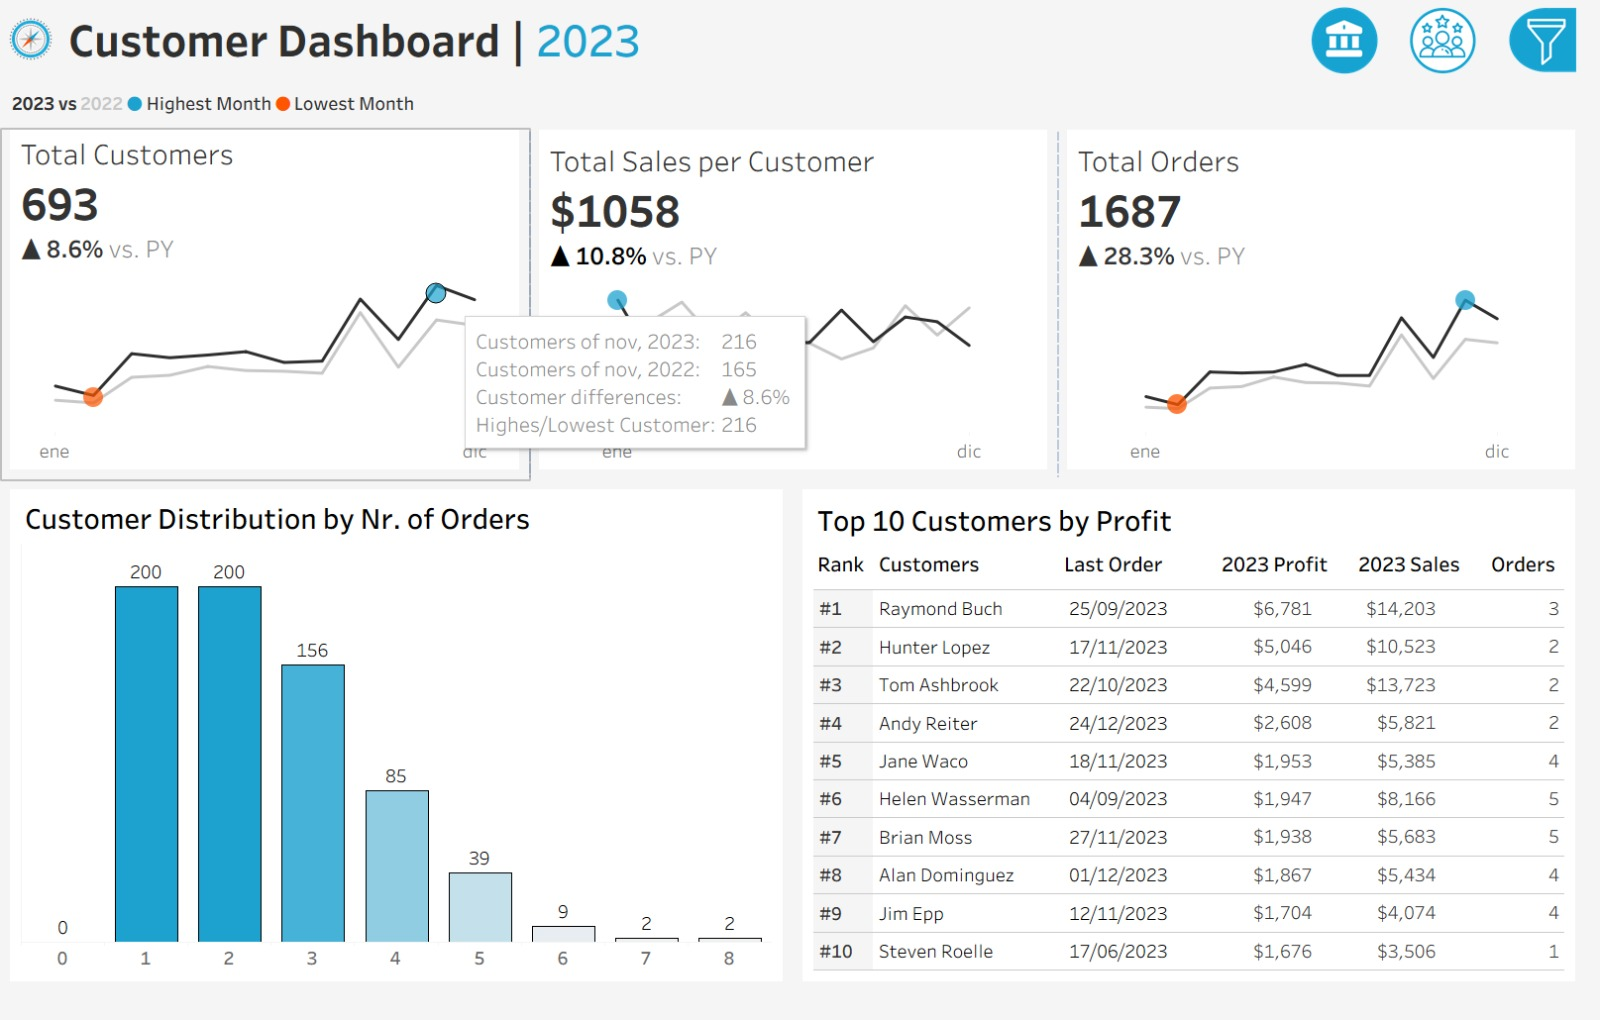

This screenshot's page, from the dashboard's own definition file:
{"tool":"tableau","page":{"name":"Customer Dashboard","canvas":[1600,1000],"ordinal":0},"visuals":[{"type":"image","param":"C:/Users/thean/Documents/Tableau/Curso Udemy/sales-dashboard-project (1)/sales-d","box":[0,0,61,76]},{"type":"text","box":[61,0,1202,76]},{"type":"dashboard-object","box":[1306,1,100,77]},{"type":"dashboard-object","box":[1406,1,100,77]},{"type":"dashboard-object","box":[1506,1,100,77]},{"type":"blank","box":[1244.7,10,342.7,90]},{"type":"worksheet","title":"Legends KPI","mark":"Automatic","box":[0,76,1600,54]},{"type":"text","box":[1244.7,100,342.7,47]},{"type":"worksheet","title":"KPI Customers","mark":"Automatic","rows":["Min/Max Sales (copia)_1171261644341273"],"cols":["Order Date"],"box":[0,130,534,353]},{"type":"worksheet","title":"KPI Sales per cust.","mark":"Automatic","rows":["Calculation_1171261718073372"],"cols":["Order Date"],"box":[534,130,533,353]},{"type":"worksheet","title":"KPI Orders","mark":"Automatic","rows":["Calculation_1171261723463713"],"cols":["Order Date"],"box":[1067,130,533,353]},{"type":"parameter","param":"[Parameters].[Parámetro 1]","box":[1244.7,147,342.7,60]},{"type":"text","box":[1244.7,207,342.7,42]},{"type":"filter","title":"KPI Customers","param":"[federated.1usaflp05rs750141jv3z0yhu4k8].[none:Category:nk]","box":[1244.7,249,342.7,70]},{"type":"filter","title":"KPI Customers","param":"[federated.1usaflp05rs750141jv3z0yhu4k8].[none:Sub-Category:nk]","box":[1244.7,319,342.7,70]},{"type":"text","box":[1244.7,389,342.7,42]},{"type":"filter","title":"KPI Customers","param":"[federated.1usaflp05rs750141jv3z0yhu4k8].[none:Region:nk]","box":[1244.7,431,342.7,70]},{"type":"text","box":[17,500,766,44]},{"type":"text","box":[817,500,766,47]},{"type":"filter","title":"KPI Customers","param":"[federated.1usaflp05rs750141jv3z0yhu4k8].[none:State:nk]","box":[1244.7,501,342.7,70]},{"type":"worksheet","title":"Customer Distribution","mark":"Bar","rows":["Calculation_1171261634609168"],"cols":["Calculation_1171261729288230"],"box":[17,544,766,439]},{"type":"text","box":[817,547,62,43]},{"type":"text","box":[879,547,187,43]},{"type":"text","box":[1066,547,159,43]},{"type":"text","box":[1225,547,138,43]},{"type":"text","box":[1363,547,134,43]},{"type":"text","box":[1497,547,86,43]},{"type":"filter","title":"KPI Customers","param":"[federated.1usaflp05rs750141jv3z0yhu4k8].[none:City:nk]","box":[1244.7,571,342.7,70]},{"type":"worksheet","title":"Top Customers","mark":"Automatic","rows":["Calculation_1171261734461482","Customer Name","Order Date"],"box":[817,590,766,393]}]}

Visuals, with their boxes in screenshot pixels (x1, y1, x2, y2), scaled from the page's 1600x1000 canvas onto the 1600x1020 screenshot:
image: {"x1": 0, "y1": 0, "x2": 61, "y2": 78}
text: {"x1": 61, "y1": 0, "x2": 1263, "y2": 78}
dashboard-object: {"x1": 1306, "y1": 1, "x2": 1406, "y2": 80}
dashboard-object: {"x1": 1406, "y1": 1, "x2": 1506, "y2": 80}
dashboard-object: {"x1": 1506, "y1": 1, "x2": 1599, "y2": 80}
blank: {"x1": 1245, "y1": 10, "x2": 1587, "y2": 102}
"Legends KPI" worksheet: {"x1": 0, "y1": 78, "x2": 1599, "y2": 133}
text: {"x1": 1245, "y1": 102, "x2": 1587, "y2": 150}
"KPI Customers" worksheet: {"x1": 0, "y1": 133, "x2": 534, "y2": 493}
"KPI Sales per cust." worksheet: {"x1": 534, "y1": 133, "x2": 1067, "y2": 493}
"KPI Orders" worksheet: {"x1": 1067, "y1": 133, "x2": 1599, "y2": 493}
parameter: {"x1": 1245, "y1": 150, "x2": 1587, "y2": 211}
text: {"x1": 1245, "y1": 211, "x2": 1587, "y2": 254}
"KPI Customers" filter: {"x1": 1245, "y1": 254, "x2": 1587, "y2": 325}
"KPI Customers" filter: {"x1": 1245, "y1": 325, "x2": 1587, "y2": 397}
text: {"x1": 1245, "y1": 397, "x2": 1587, "y2": 440}
"KPI Customers" filter: {"x1": 1245, "y1": 440, "x2": 1587, "y2": 511}
text: {"x1": 17, "y1": 510, "x2": 783, "y2": 555}
text: {"x1": 817, "y1": 510, "x2": 1583, "y2": 558}
"KPI Customers" filter: {"x1": 1245, "y1": 511, "x2": 1587, "y2": 582}
"Customer Distribution" worksheet (Bar marks): {"x1": 17, "y1": 555, "x2": 783, "y2": 1003}
text: {"x1": 817, "y1": 558, "x2": 879, "y2": 602}
text: {"x1": 879, "y1": 558, "x2": 1066, "y2": 602}
text: {"x1": 1066, "y1": 558, "x2": 1225, "y2": 602}
text: {"x1": 1225, "y1": 558, "x2": 1363, "y2": 602}
text: {"x1": 1363, "y1": 558, "x2": 1497, "y2": 602}
text: {"x1": 1497, "y1": 558, "x2": 1583, "y2": 602}
"KPI Customers" filter: {"x1": 1245, "y1": 582, "x2": 1587, "y2": 654}
"Top Customers" worksheet: {"x1": 817, "y1": 602, "x2": 1583, "y2": 1003}
